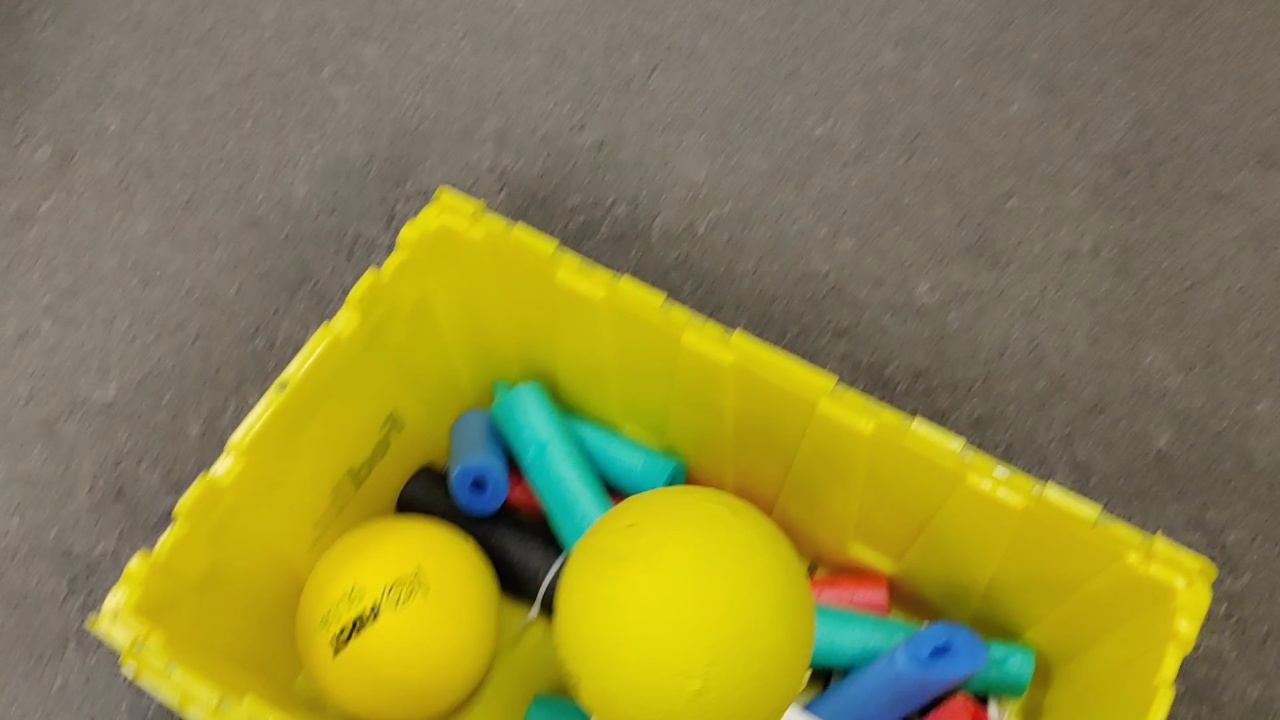Ball: (553, 483, 817, 720), (296, 514, 496, 716)
